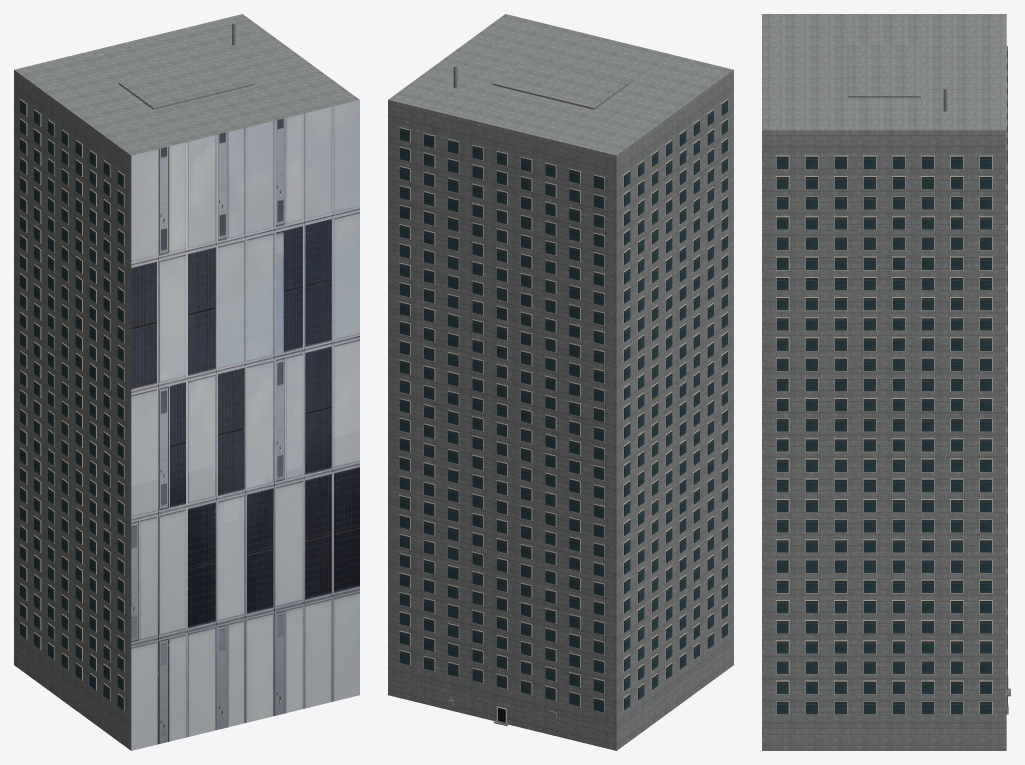
File: halcyon-hq_lod0.gltf
3 renders of one model, left to right at view 1: azimuth 30°, elevation 25°; view 2: azimuth 150°, elevation 25°; view 3: azimuth 270°, elevation 25°, orthographic. The views are drawn at different scales.
Parts seen in each view (by area): view 1: halcyon-hq_front, halcyon-hq_main, halcyon-hq_fen_07-glass-curtain-blue_1, halcyon-hq_fen_04-limestone_0, halcyon-hq__solar_array; view 2: halcyon-hq_main, halcyon-hq_fen_07-glass-curtain-blue_1, halcyon-hq_fen_04-limestone_0, halcyon-hq__solar_array; view 3: halcyon-hq_main, halcyon-hq_fen_07-glass-curtain-blue_1, halcyon-hq_fen_04-limestone_0, halcyon-hq__solar_array.
Part boxes in pixels (left/top/right/bottom): halcyon-hq_front: left=131, top=100, right=359, bottom=750; halcyon-hq_main: left=14, top=14, right=359, bottom=750; halcyon-hq_fen_07-glass-curtain-blue_1: left=20, top=100, right=123, bottom=710; halcyon-hq_fen_04-limestone_0: left=20, top=99, right=124, bottom=710; halcyon-hq__solar_array: left=118, top=58, right=255, bottom=109; halcyon-hq_main: left=388, top=14, right=733, bottom=750; halcyon-hq_fen_07-glass-curtain-blue_1: left=399, top=100, right=727, bottom=712; halcyon-hq_fen_04-limestone_0: left=399, top=99, right=727, bottom=722; halcyon-hq__solar_array: left=492, top=58, right=629, bottom=109; halcyon-hq_main: left=762, top=14, right=1006, bottom=750; halcyon-hq_fen_07-glass-curtain-blue_1: left=776, top=46, right=1007, bottom=714; halcyon-hq_fen_04-limestone_0: left=776, top=45, right=1008, bottom=714; halcyon-hq__solar_array: left=847, top=44, right=920, bottom=97.
Bounding box in the file's own units: 45.4 × 116 × 40.7.
